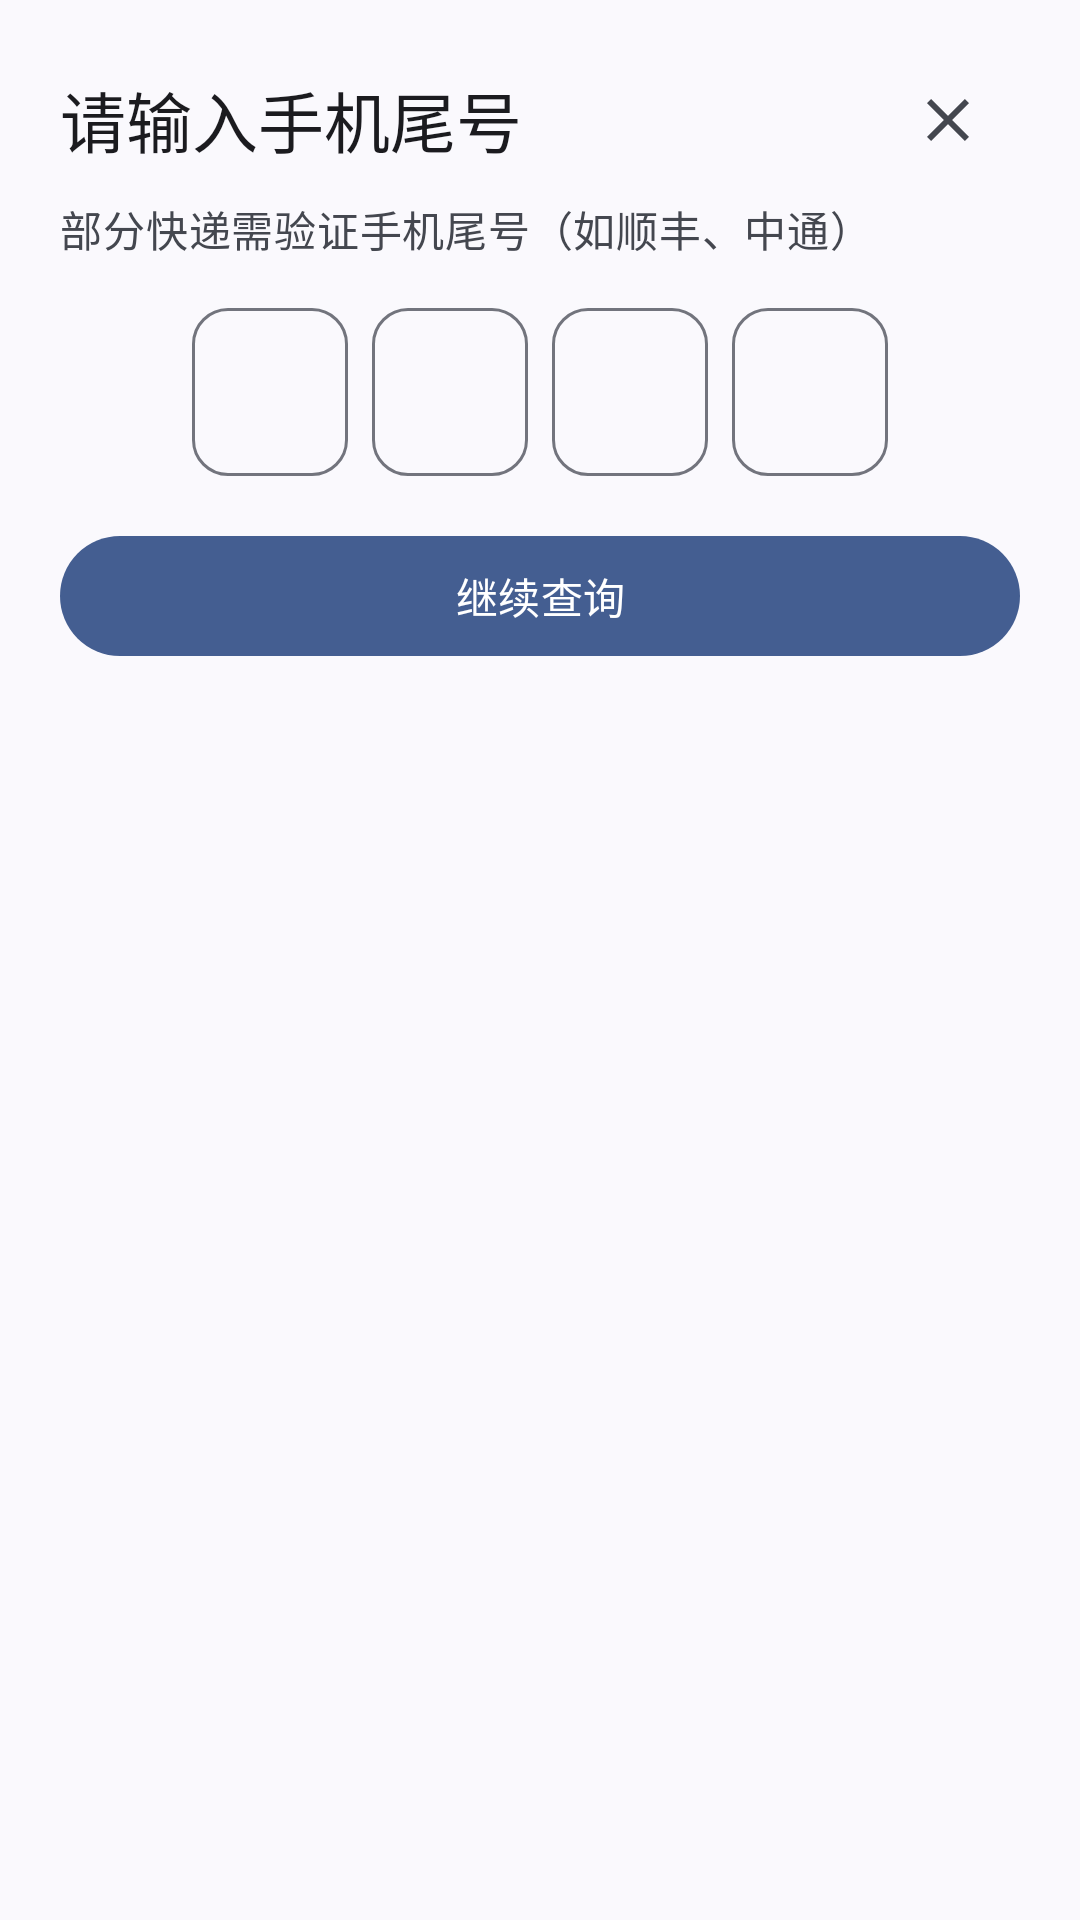

Named icons in this screenshot (1080 × 1920) and their centers, point (x, y):
取消: point (948, 120)
